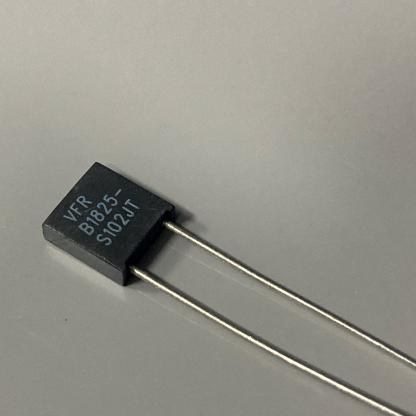SP0000007: (10, 137, 416, 416)
